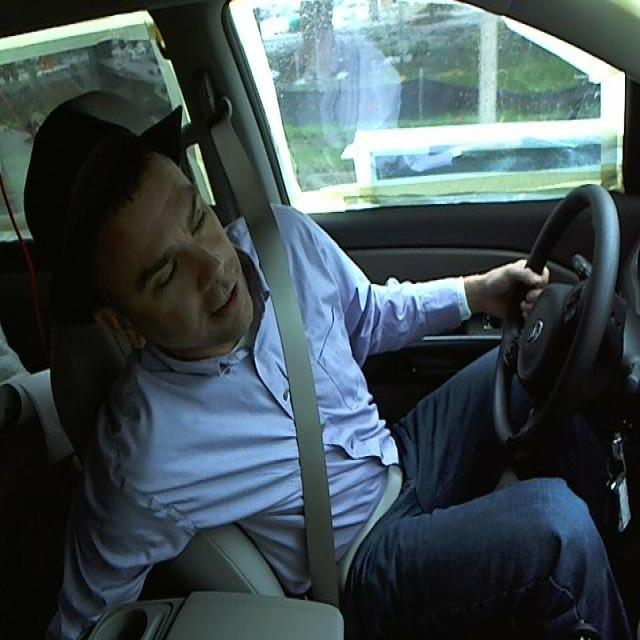seatbelt: (253, 217, 401, 572)
